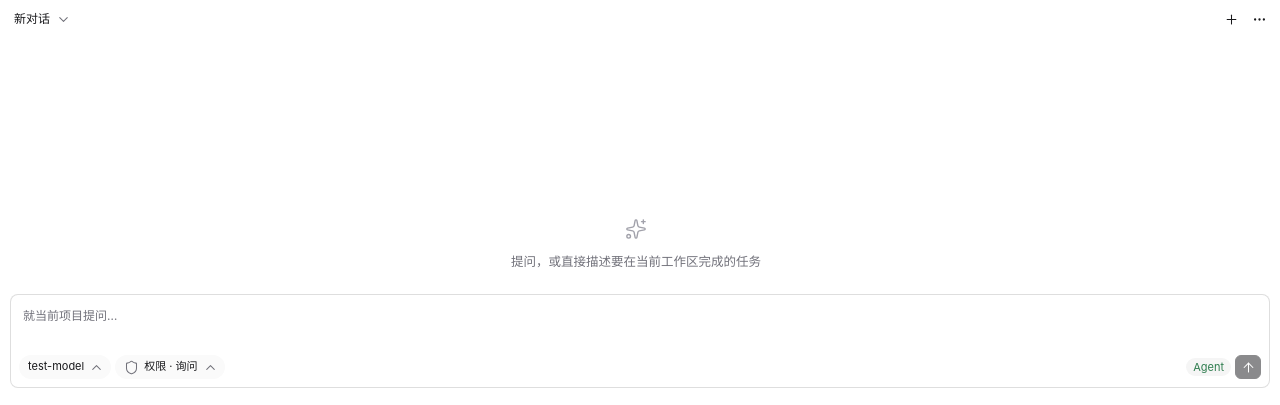
it: routes a workspace prompt through the harness without a mode toggle
The image size is (1280, 405).
Expected: the text "提问，或直接描述要在当前工作区完成的任务" is shown, [511,218,761,269]
Type "读取当前项目" into the text box named "向 AI 提问" at (640, 329), box [19,303,1261,355]
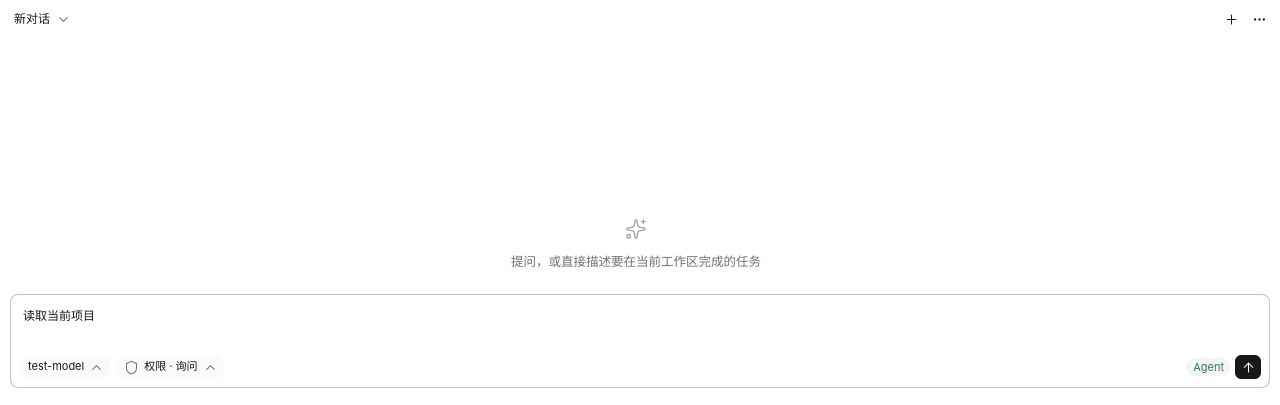
Click the button named "发送" at (1248, 367), box [1235,355,1261,379]
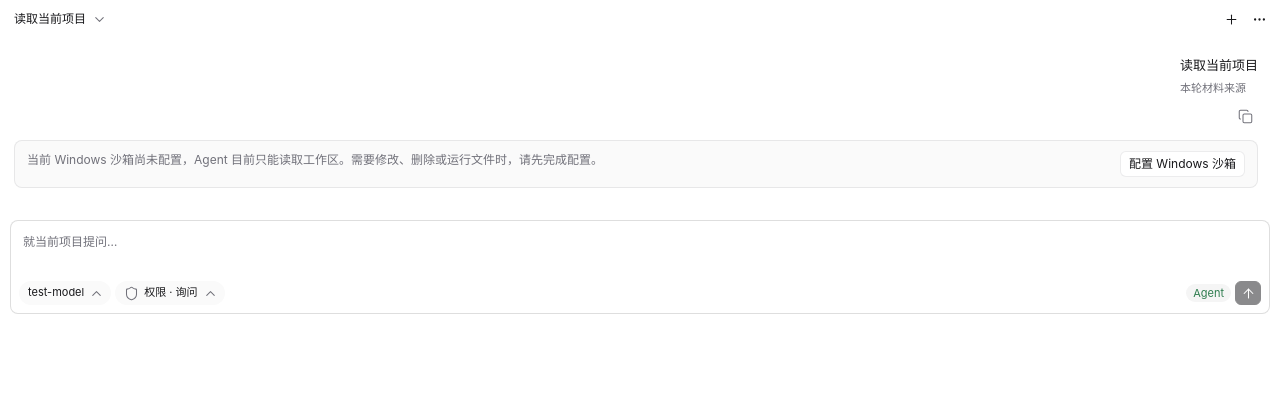
Click the button "配置 Windows 沙箱" at (1182, 164), box [1120,151,1245,177]
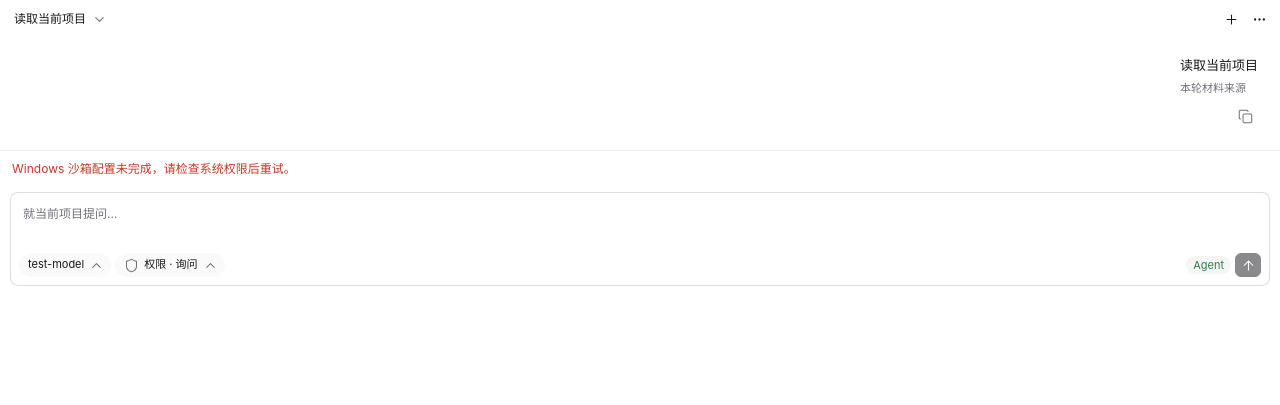
Click the button named "新建 AI 对话" at (1231, 19), box [1218,6,1244,32]
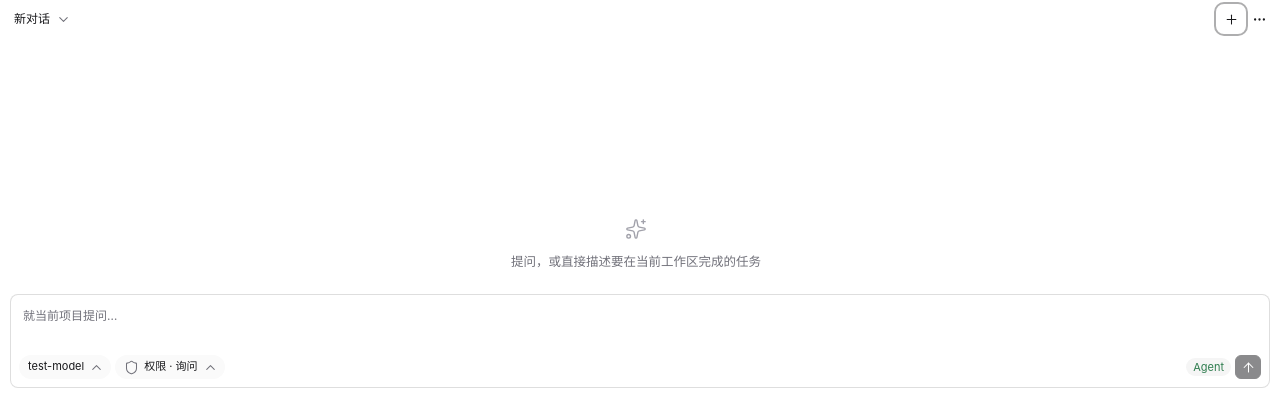
Expected: the button "读取当前项目" is gone
Click the button with aria-label "当前 AI 对话" at (32, 19), box [8,6,1216,32]
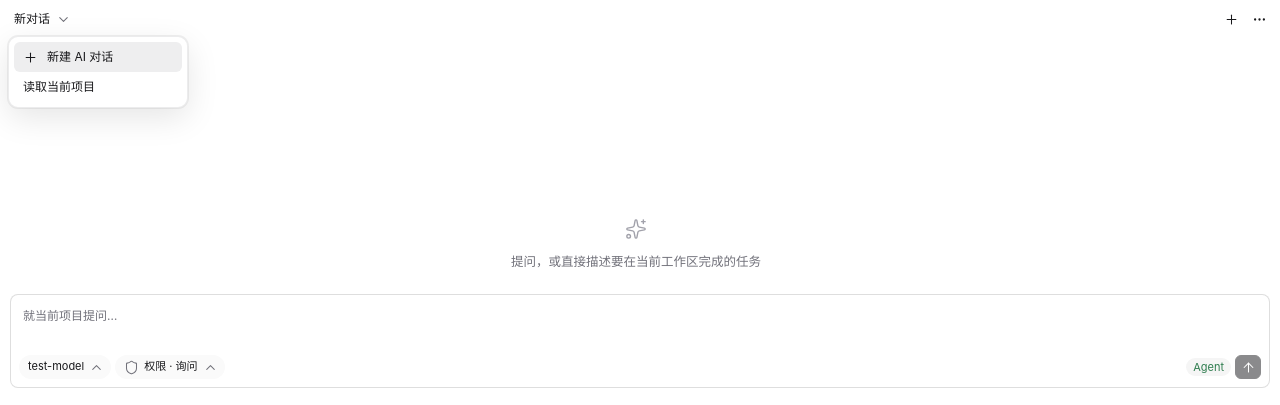
Expected: the menu item "读取当前项目" is shown, [14,72,174,102]
